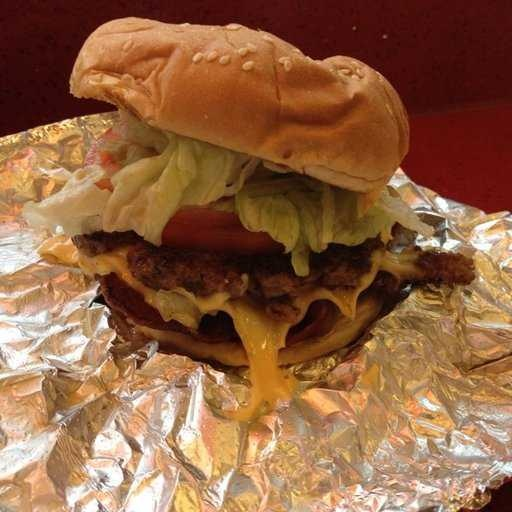hamburger: (57, 34, 426, 370)
